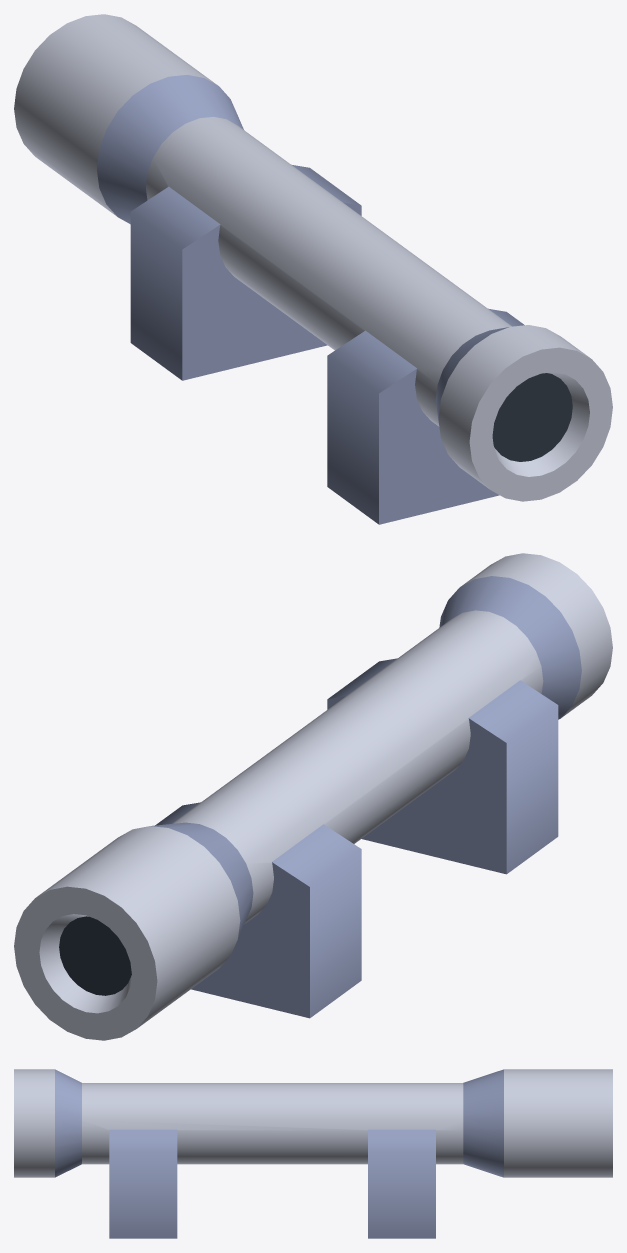
The model's file is scopeB.fbx.
3 renders of one model, top to bottom at view 1: azimuth 30°, elevation 25°; view 2: azimuth 150°, elevation 25°; view 3: azimuth 270°, elevation 25°, orthographic. The views are drawn at different scales.
Visible parts, largest first — view 1: scopeB; view 2: scopeB; view 3: scopeB.
Part boxes in pixels (x1,y1,x2,y2): scopeB: [14, 14, 612, 524]; scopeB: [14, 553, 612, 1040]; scopeB: [14, 1069, 612, 1238].
Size of the model in its own units: 1 by 1.1 by 4.4.
